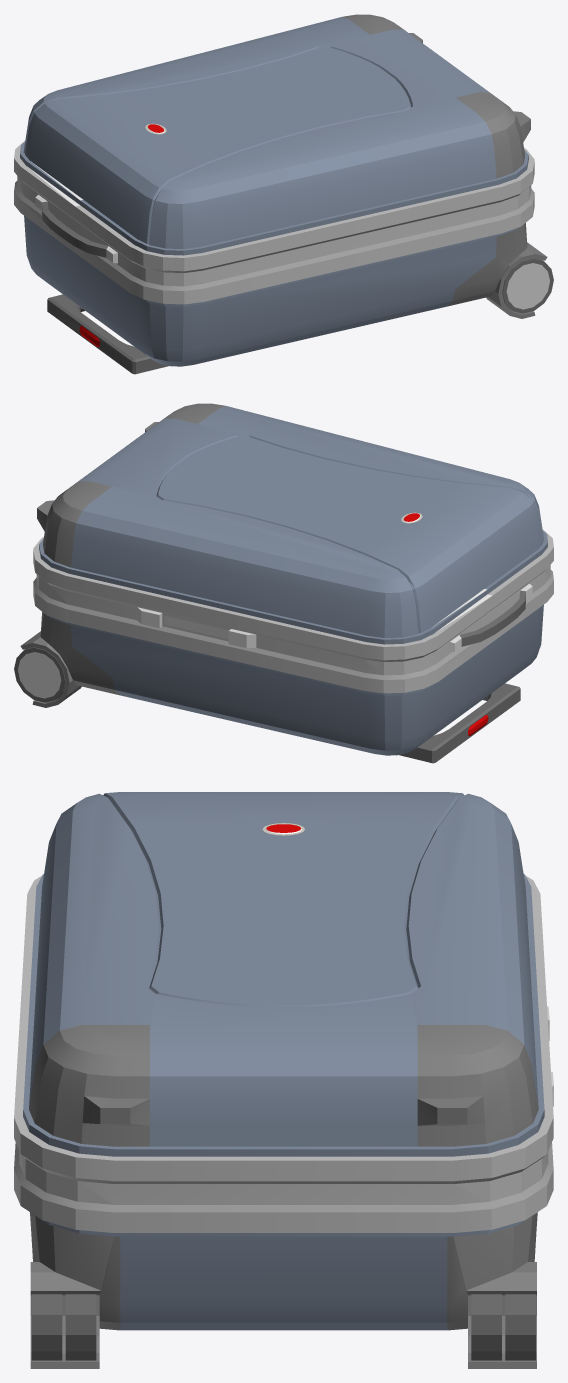
3 renders of one model, top to bottom at view 1: azimuth 30°, elevation 25°; view 2: azimuth 150°, elevation 25°; view 3: azimuth 270°, elevation 25°, orthographic. The views are drawn at different scales.
Parts seen in each view (by area): view 1: Group1237; view 2: Group1237; view 3: Group1237.
Part boxes in pixels (left/top/right/bottom): Group1237: left=14, top=14, right=553, bottom=374; Group1237: left=14, top=403, right=553, bottom=763; Group1237: left=14, top=792, right=553, bottom=1368.
Bounding box in the file's own units: 0.714 × 0.3325 × 0.5197.
